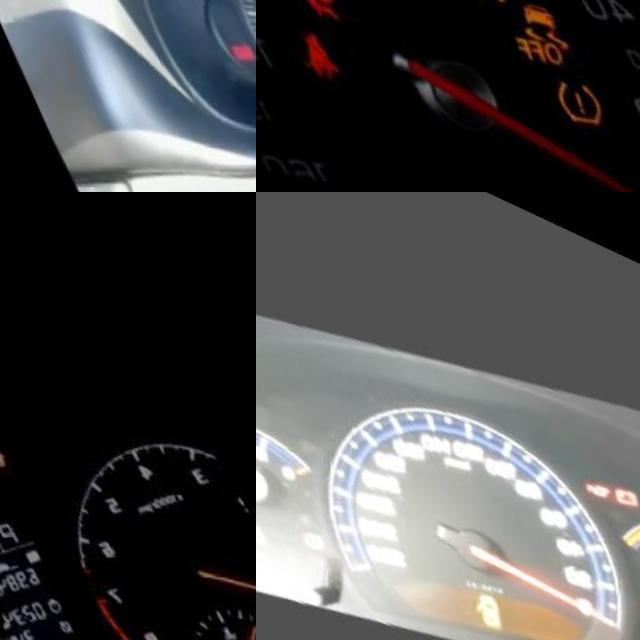Engine cooling system: (204, 589, 236, 621)
